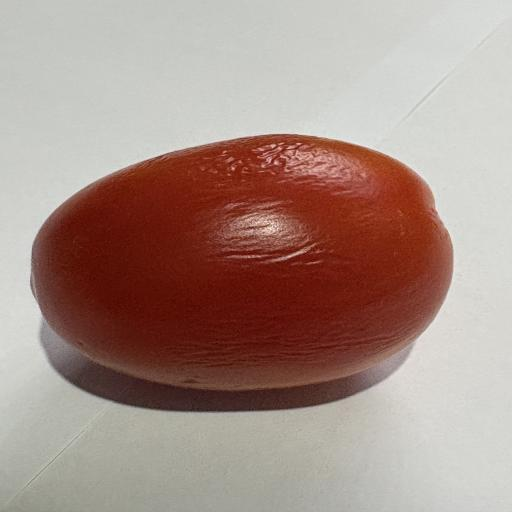spoiled: (31, 135, 453, 390)
